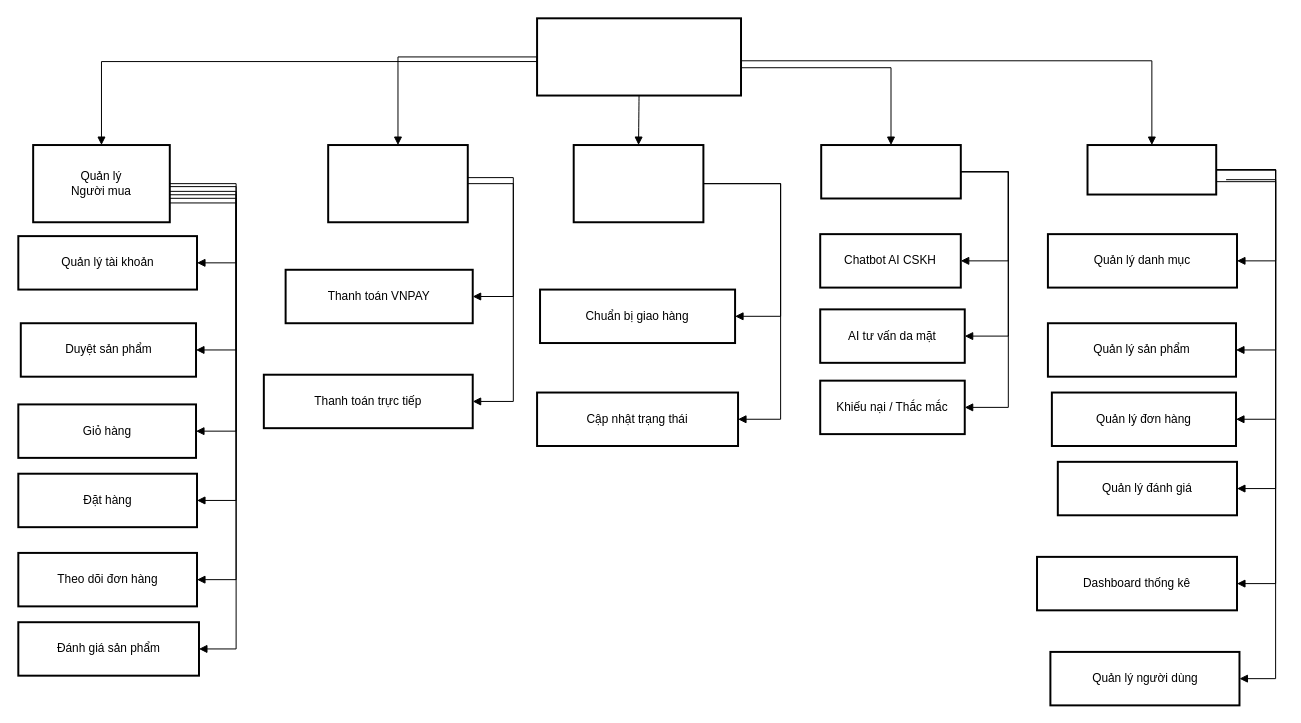
Some shapes in this 1301 by 723 pixel diagram are drawn without their labels. The centre of each missing label's shape, as x and y in pixels:
Hỗ trợ & AI: [890,171]
Quản lý Giao hàng: [638,183]
Quản lý Người bán: [1151,169]
Quản lý Thanh toán: [397,183]
Website Thương mại điện tử: [639,56]
